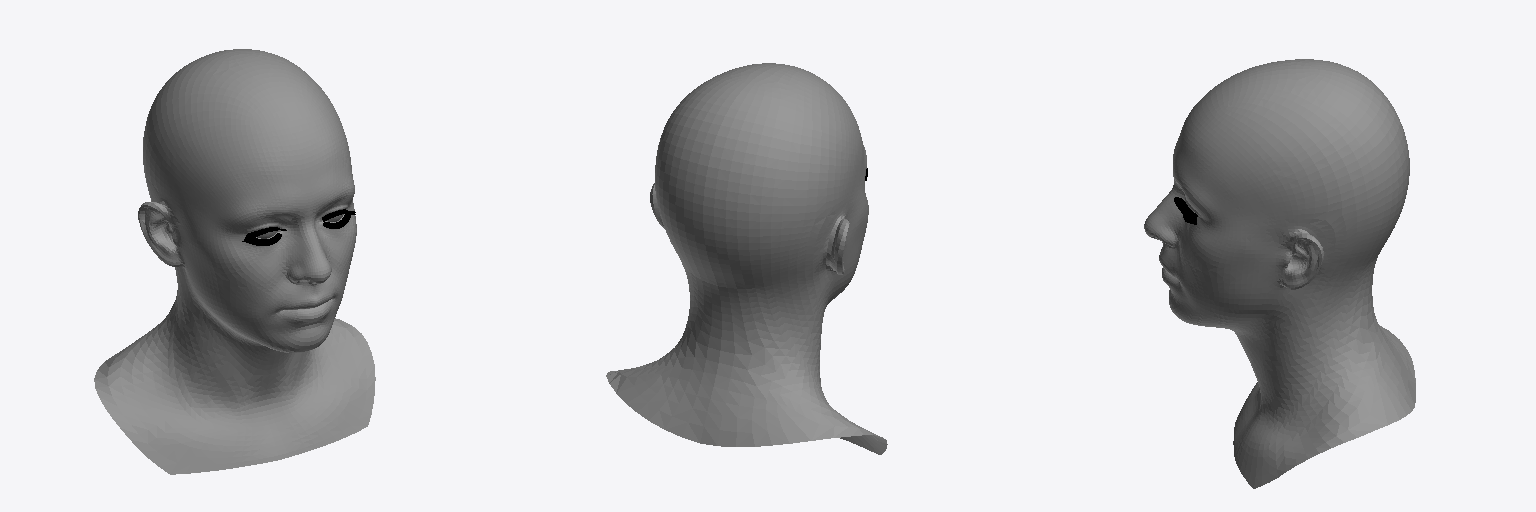
File: identity047.obj
The picture shows the model from 3 angles: view 1: azimuth 30°, elevation 25°; view 2: azimuth 150°, elevation 25°; view 3: azimuth 270°, elevation 25°; orthographic projection.
Size of the model in its own units: 24.91 by 33.85 by 22.27.